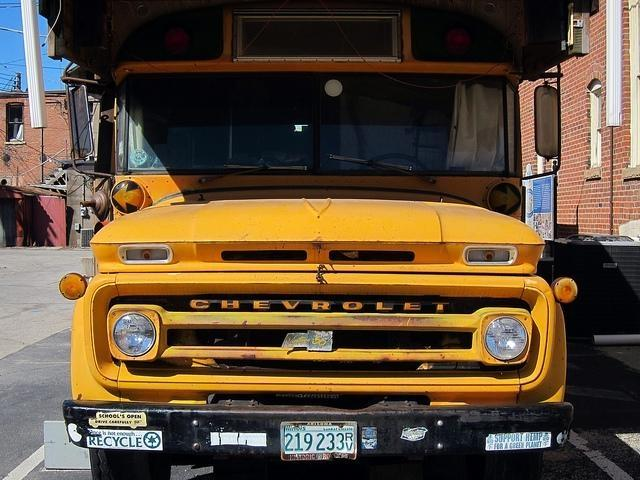bus: (34, 1, 594, 474)
truck: (38, 0, 601, 479)
